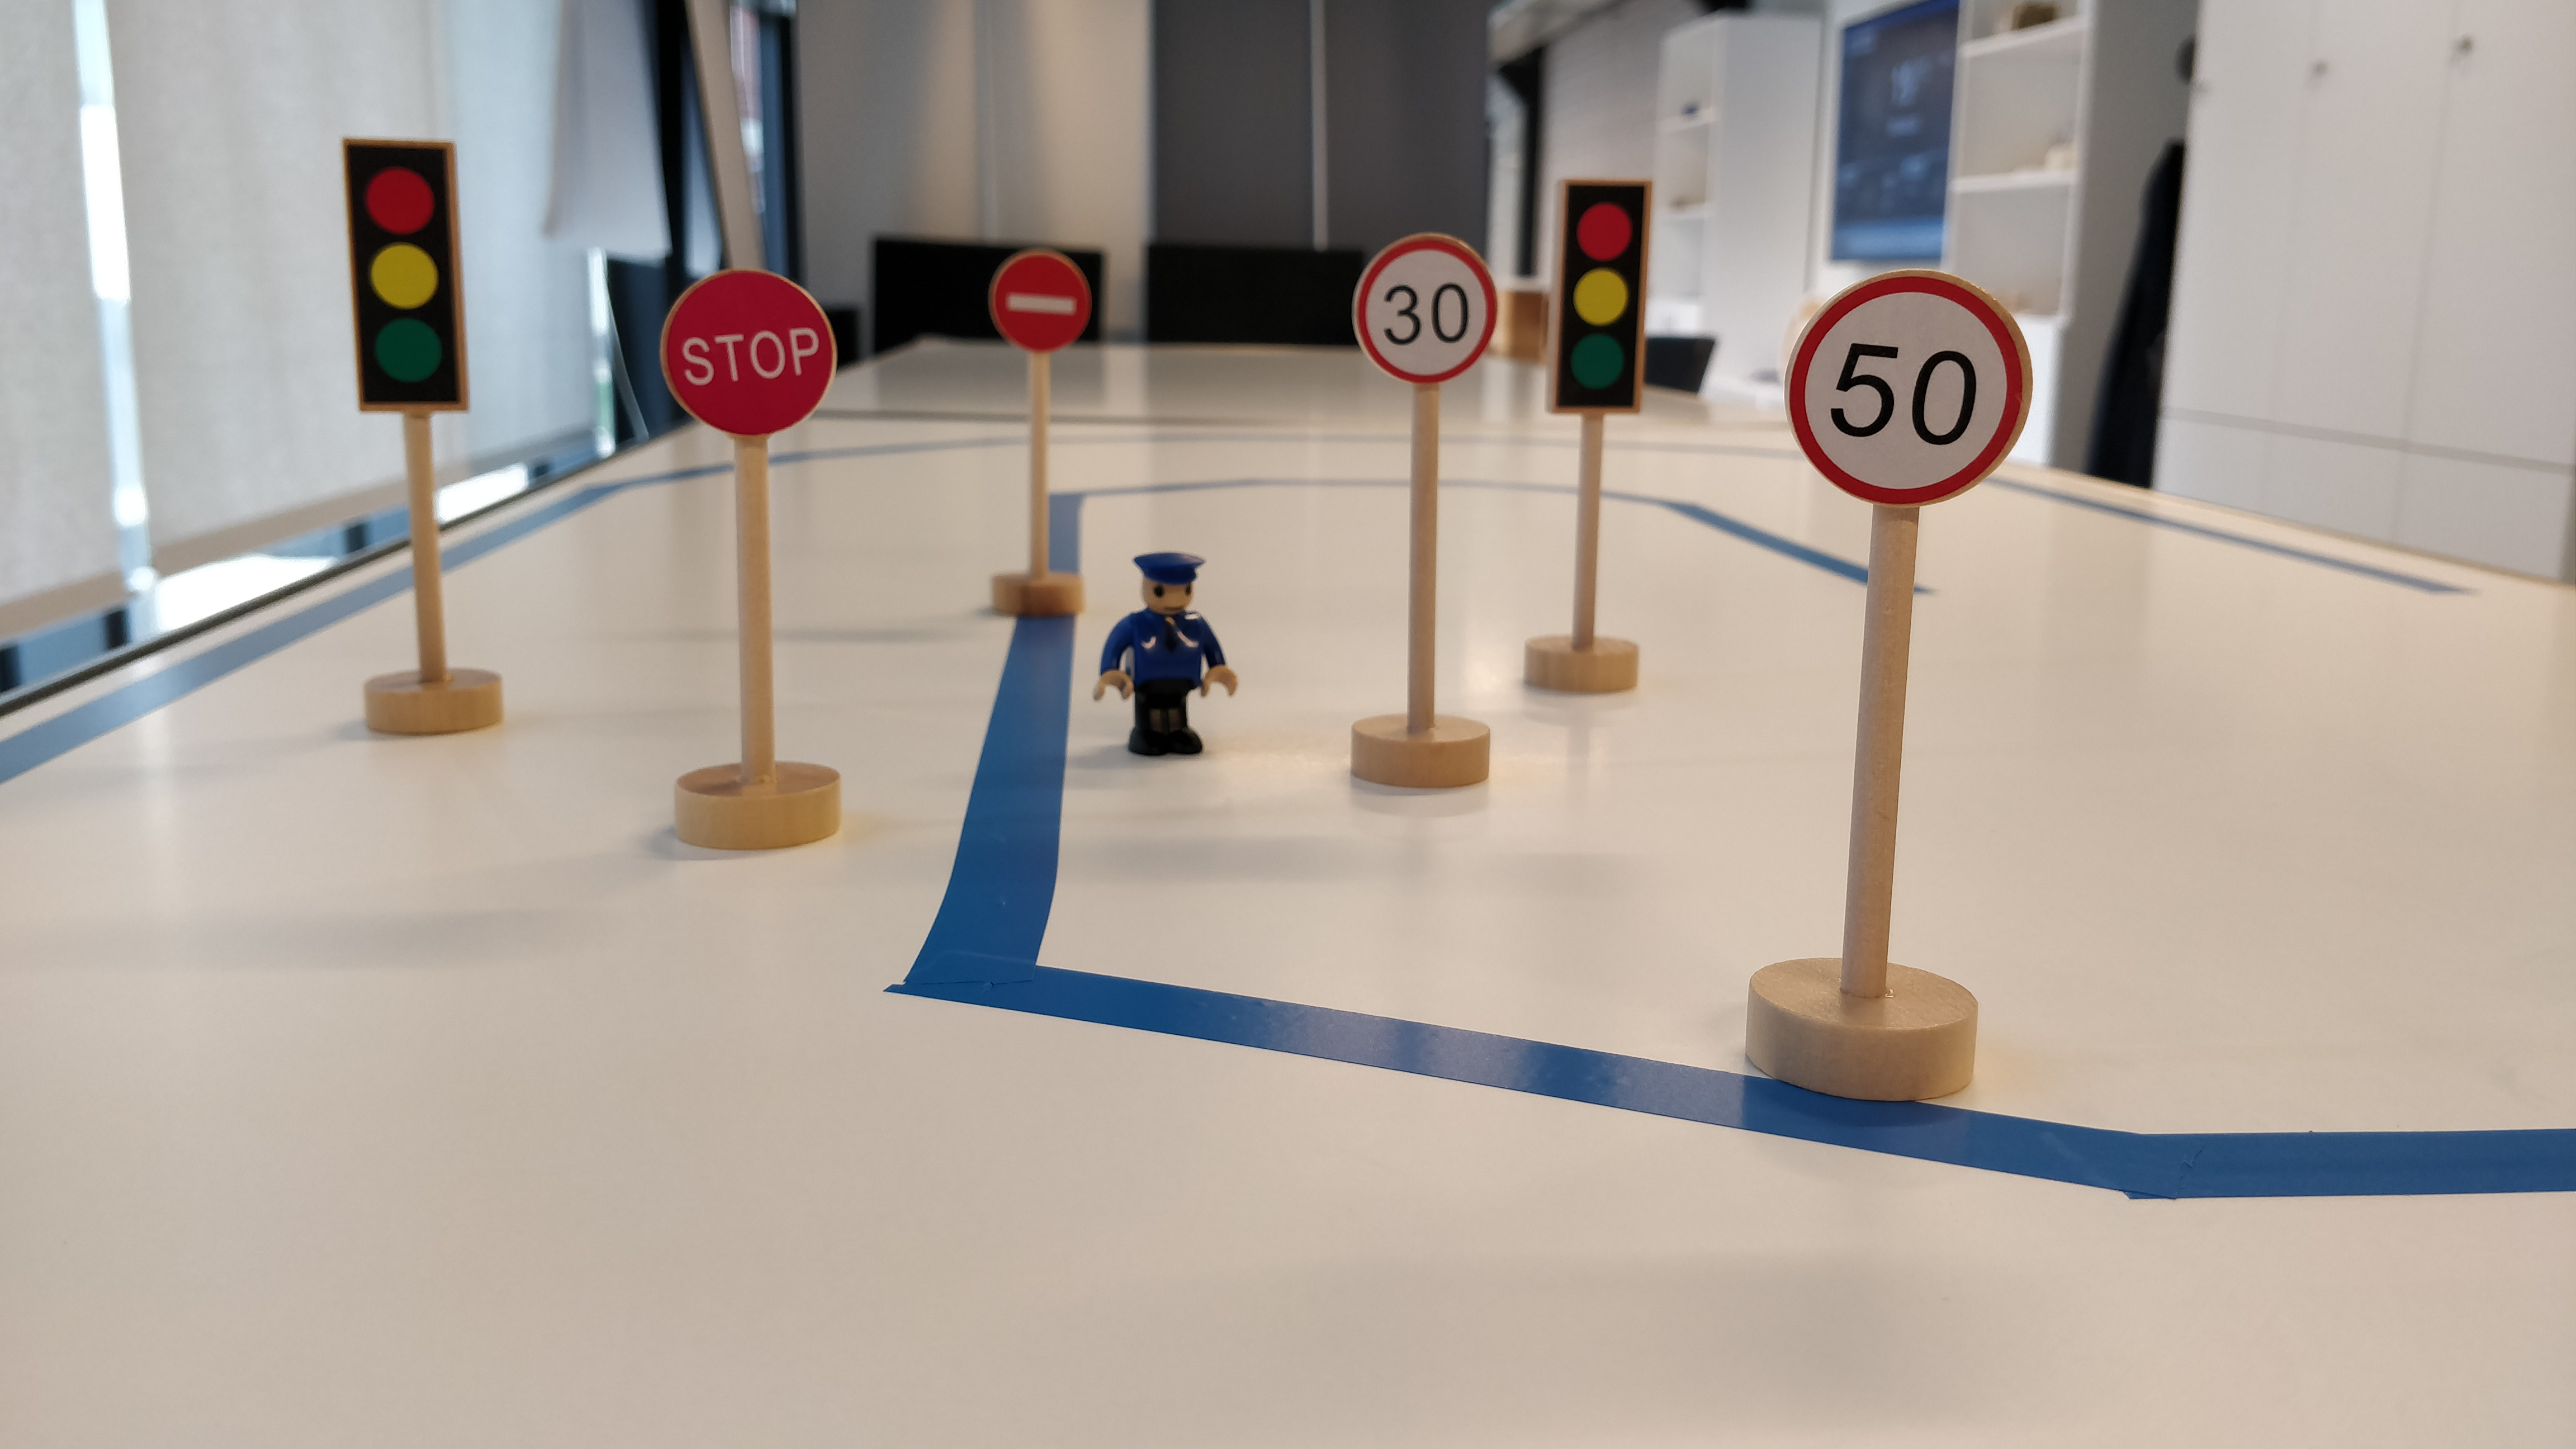Person: (1087, 546, 1243, 763)
Prohibition Sign: (983, 244, 1095, 358)
Speed Limit 30: (1353, 233, 1500, 385)
Speed Limit 50: (1773, 261, 2045, 509)
Stop Sign: (652, 264, 840, 441)
Traffic Light: (334, 129, 477, 418), (1552, 172, 1651, 415)
